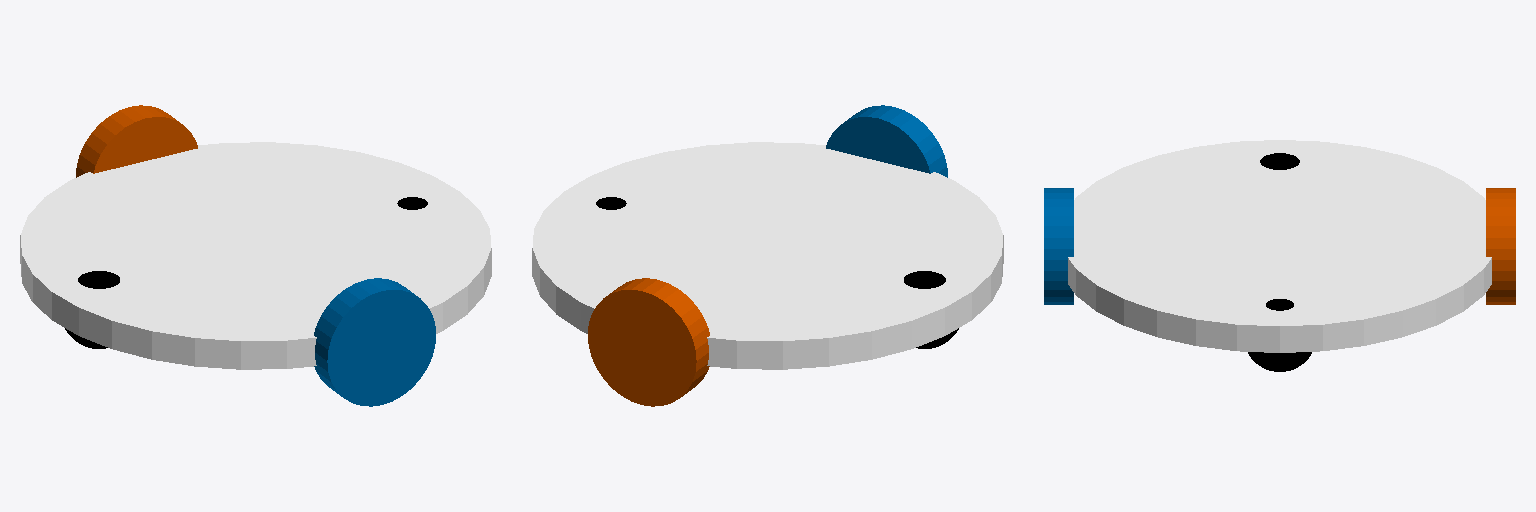
The robot description file, URDF, robot "differential_wheeled_robot":
<?xml version="1.0" ?>
<!-- =================================================================================== -->
<!-- |    This document was autogenerated by xacro from diff_wheeled_robot.xacro       | -->
<!-- |    EDITING THIS FILE BY HAND IS NOT RECOMMENDED                                 | -->
<!-- =================================================================================== -->
<robot name="differential_wheeled_robot">
  <!-- in kg-->
  <!-- Defining the colors used in this robot -->
  <material name="Black">
    <color rgba="0.0 0.0 0.0 1.0"/>
  </material>
  <material name="Red">
    <color rgba="0.8 0.0 0.0 1.0"/>
  </material>
  <material name="White">
    <color rgba="1.0 1.0 1.0 1.0"/>
  </material>
  <material name="Blue">
    <color rgba="0.0 0.0 0.8 1.0"/>
  </material>
  <!-- in kg-->
  <!-- in kg-->
   --&gt; 
  <!-- BASE-FOOTPRINT -->
  <!-- base_footprint is a fictitious link(frame) that is on the ground right below base_link origin -->
  <link name="base_footprint">
    <inertial>
      <mass value="0.0001"/>
      <origin xyz="0 0 0"/>
      <inertia ixx="0.0001" ixy="0.0" ixz="0.0" iyy="0.0001" iyz="0.0" izz="0.0001"/>
    </inertial>
    <visual>
      <origin rpy="0 0 0" xyz="0 0 0"/>
      <geometry>
        <box size="0.001 0.001 0.001"/>
      </geometry>
    </visual>
  </link>
  <gazebo reference="base_footprint">
    <turnGravityOff>false</turnGravityOff>
  </gazebo>
  <joint name="base_footprint_joint" type="fixed">
    <origin rpy="0 0 0" xyz="0 0 0.04"/>
    <parent link="base_footprint"/>
    <child link="base_link"/>
  </joint>
  <link name="base_link">
    <inertial>
      <mass value="5.0"/>
      <origin xyz="0 0 0"/>
      <inertia ixx="0.0001" ixy="0.0" ixz="0.0" iyy="0.0001" iyz="0.0" izz="0.0001"/>
      <cylinder_inertia h="0.02" m="5.0" r="0.15"/>
    </inertial>
    <visual>
      <origin rpy="0 0 0" xyz="0 0 0"/>
      <geometry>
        <cylinder length="0.02" radius="0.15"/>
      </geometry>
      <material name="White"/>
    </visual>
    <collision>
      <origin rpy="0 0 0 " xyz="0 0 0"/>
      <geometry>
        <cylinder length="0.02" radius="0.15"/>
      </geometry>
    </collision>
  </link>
  <gazebo reference="base_link">
    <material>Gazebo/White</material>
    <turnGravityOff>false</turnGravityOff>
  </gazebo>
  <link name="caster_front_link">
    <visual>
      <origin rpy="1.5707963267948966 0 0" xyz="0 0.02 0"/>
      <geometry>
        <sphere radius="0.025"/>
      </geometry>
      <material name="Black"/>
    </visual>
    <collision>
      <geometry>
        <sphere radius="0.025"/>
      </geometry>
      <origin rpy="1.5707963267948966 0 0" xyz="0 0.02 0"/>
    </collision>
    <inertial>
      <mass value="0.5"/>
      <origin xyz="0 0 0"/>
      <inertia ixx="0.001" ixy="0.0" ixz="0.0" iyy="0.001" iyz="0.0" izz="0.001"/>
    </inertial>
  </link>
  <joint name="caster_front_joint" type="fixed">
    <parent link="base_link"/>
    <child link="caster_front_link"/>
    <origin rpy="-1.5707963267948966 0 0" xyz="0.115 0.0 0.007"/>
  </joint>
  <gazebo reference="caster_front_link">
    <turnGravityOff>false</turnGravityOff>
  </gazebo>
  <link name="caster_back_link">
    <visual>
      <origin rpy="1.5707963267948966 0 0" xyz="0.02 0.02 0 "/>
      <geometry>
        <sphere radius="0.025"/>
      </geometry>
      <material name="Black"/>
    </visual>
    <collision>
      <geometry>
        <sphere radius="0.025"/>
      </geometry>
      <origin rpy="1.5707963267948966 0 0" xyz="0 0.02 0 "/>
    </collision>
    <inertial>
      <mass value="0.5"/>
      <origin xyz="0 0 0"/>
      <inertia ixx="0.001" ixy="0.0" ixz="0.0" iyy="0.001" iyz="0.0" izz="0.001"/>
    </inertial>
  </link>
  <joint name="caster_back_joint" type="fixed">
    <parent link="base_link"/>
    <child link="caster_back_link"/>
    <origin rpy="-1.5707963267948966 0 0" xyz="-0.135 0.0 0.009"/>
  </joint>
  <gazebo reference="caster_back_link">
    <turnGravityOff>false</turnGravityOff>
  </gazebo>
  <!--fb : front, back ; lr: left, right -->
  <link name="front_right_wheel">
    <visual>
      <origin rpy="1.5707963267948966 0  0 " xyz="0 0 0"/>
      <geometry>
        <cylinder length="0.02" radius="0.04"/>
      </geometry>
      <material name="DarkGray"/>
    </visual>
    <collision>
      <origin rpy="1.5707963267948966 0 0 " xyz="0 0 0"/>
      <geometry>
        <cylinder length="0.02" radius="0.04"/>
      </geometry>
    </collision>
    <inertial>
      <mass value="2.5"/>
      <origin xyz="0 0 0"/>
      <inertia ixx="0.001" ixy="0.0" ixz="0.0" iyy="0.001" iyz="0.0" izz="0.001"/>
    </inertial>
  </link>
  <gazebo reference="front_right_wheel">
    <mu1 value="1.0"/>
    <mu2 value="1.0"/>
    <kp value="10000000.0"/>
    <kd value="1.0"/>
    <fdir1 value="1 0 0"/>
    <material>Gazebo/Grey</material>
    <turnGravityOff>false</turnGravityOff>
  </gazebo>
  <joint name="front_right_wheel_joint" type="continuous">
    <parent link="base_link"/>
    <child link="front_right_wheel"/>
    <origin rpy="0 0 0" xyz="0.0 -0.15 0.0"/>
    <axis rpy="0 0 0" xyz="0 1 0"/>
    <limit effort="100" velocity="100"/>
    <joint_properties damping="0.0" friction="0.0"/>
  </joint>
  <!-- Transmission is important to link the joints and the controller -->
  <transmission name="front_right_wheel_joint_trans">
    <type>transmission_interface/SimpleTransmission</type>
    <joint name="front_right_wheel_joint"/>
    <actuator name="front_right_wheel_joint_motor">
      <hardwareInterface>EffortJointInterface</hardwareInterface>
      <mechanicalReduction>1</mechanicalReduction>
    </actuator>
  </transmission>
  <!--fb : front, back ; lr: left, right -->
  <link name="front_left_wheel">
    <visual>
      <origin rpy="1.5707963267948966 0  0 " xyz="0 0 0"/>
      <geometry>
        <cylinder length="0.02" radius="0.04"/>
      </geometry>
      <material name="DarkGray"/>
    </visual>
    <collision>
      <origin rpy="1.5707963267948966 0 0 " xyz="0 0 0"/>
      <geometry>
        <cylinder length="0.02" radius="0.04"/>
      </geometry>
    </collision>
    <inertial>
      <mass value="2.5"/>
      <origin xyz="0 0 0"/>
      <inertia ixx="0.001" ixy="0.0" ixz="0.0" iyy="0.001" iyz="0.0" izz="0.001"/>
    </inertial>
  </link>
  <gazebo reference="front_left_wheel">
    <mu1 value="1.0"/>
    <mu2 value="1.0"/>
    <kp value="10000000.0"/>
    <kd value="1.0"/>
    <fdir1 value="1 0 0"/>
    <material>Gazebo/Grey</material>
    <turnGravityOff>false</turnGravityOff>
  </gazebo>
  <joint name="front_left_wheel_joint" type="continuous">
    <parent link="base_link"/>
    <child link="front_left_wheel"/>
    <origin rpy="0 0 0" xyz="0.0 0.15 0.0"/>
    <axis rpy="0 0 0" xyz="0 1 0"/>
    <limit effort="100" velocity="100"/>
    <joint_properties damping="0.0" friction="0.0"/>
  </joint>
  <!-- Transmission is important to link the joints and the controller -->
  <transmission name="front_left_wheel_joint_trans">
    <type>transmission_interface/SimpleTransmission</type>
    <joint name="front_left_wheel_joint"/>
    <actuator name="front_left_wheel_joint_motor">
      <hardwareInterface>EffortJointInterface</hardwareInterface>
      <mechanicalReduction>1</mechanicalReduction>
    </actuator>
  </transmission>
  <gazebo>
    <plugin filename="libgazebo_ros_diff_drive.so" name="differential_drive_controller">
      <legacyMode>true</legacyMode>
      <rosDebugLevel>Debug</rosDebugLevel>
      <publishWheelTF>false</publishWheelTF>
      <robotNamespace>/</robotNamespace>
      <publishTf>1</publishTf>
      <publishWheelJointState>false</publishWheelJointState>
      <alwaysOn>true</alwaysOn>
      <updateRate>100.0</updateRate>
      <leftJoint>front_left_wheel_joint</leftJoint>
      <rightJoint>front_right_wheel_joint</rightJoint>
      <wheelSeparation>0.3</wheelSeparation>
      <wheelDiameter>0.08</wheelDiameter>
      <broadcastTF>1</broadcastTF>
      <wheelTorque>30</wheelTorque>
      <wheelAcceleration>1.8</wheelAcceleration>
      <commandTopic>cmd_vel</commandTopic>
      <odometryFrame>odom</odometryFrame>
      <odometryTopic>odom</odometryTopic>
      <robotBaseFrame>base_footprint</robotBaseFrame>
    </plugin>
  </gazebo>
</robot>

--- What the picture shows (computed from the rendered views, not written in the file) ---
3 views of the same robot in one strip: view 1: azimuth 30°, elevation 25°; view 2: azimuth 150°, elevation 25°; view 3: azimuth 270°, elevation 25° (orthographic).
Robot: differential_wheeled_robot — 6 links, 5 joints (2 continuous, 3 fixed); root link base_footprint; default pose: all joints at 0.
Links seen in each view (by area): view 1: base_link, front_right_wheel, front_left_wheel, caster_back_link; view 2: base_link, front_left_wheel, front_right_wheel, caster_back_link; view 3: base_link, front_right_wheel, front_left_wheel, caster_front_link, caster_back_link.
Boxes of the visible links, bbox=[...] form: base_link: bbox=[20, 142, 491, 369]; front_right_wheel: bbox=[314, 278, 435, 406]; front_left_wheel: bbox=[76, 105, 197, 177]; caster_back_link: bbox=[65, 271, 119, 348]; base_link: bbox=[532, 142, 1003, 369]; front_left_wheel: bbox=[588, 278, 709, 406]; front_right_wheel: bbox=[826, 105, 947, 177]; caster_back_link: bbox=[904, 271, 958, 348]; base_link: bbox=[1068, 140, 1491, 352]; front_right_wheel: bbox=[1044, 188, 1073, 304]; front_left_wheel: bbox=[1486, 188, 1515, 304]; caster_front_link: bbox=[1248, 299, 1311, 371]; caster_back_link: bbox=[1260, 153, 1299, 169].
Size in the robot's own frame: 0.3 by 0.32 by 0.0805 metres.
Geometry: primitives only (box / cylinder / sphere), no mesh files.
